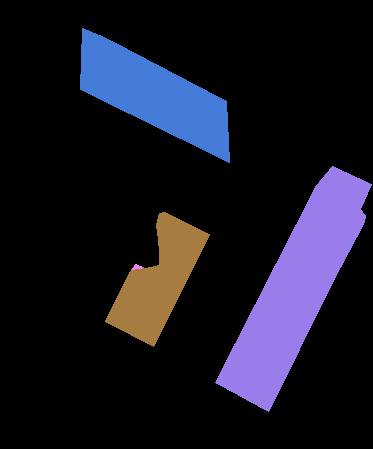parkingspot: (215, 166, 371, 411), (80, 28, 229, 162), (105, 212, 209, 346)
